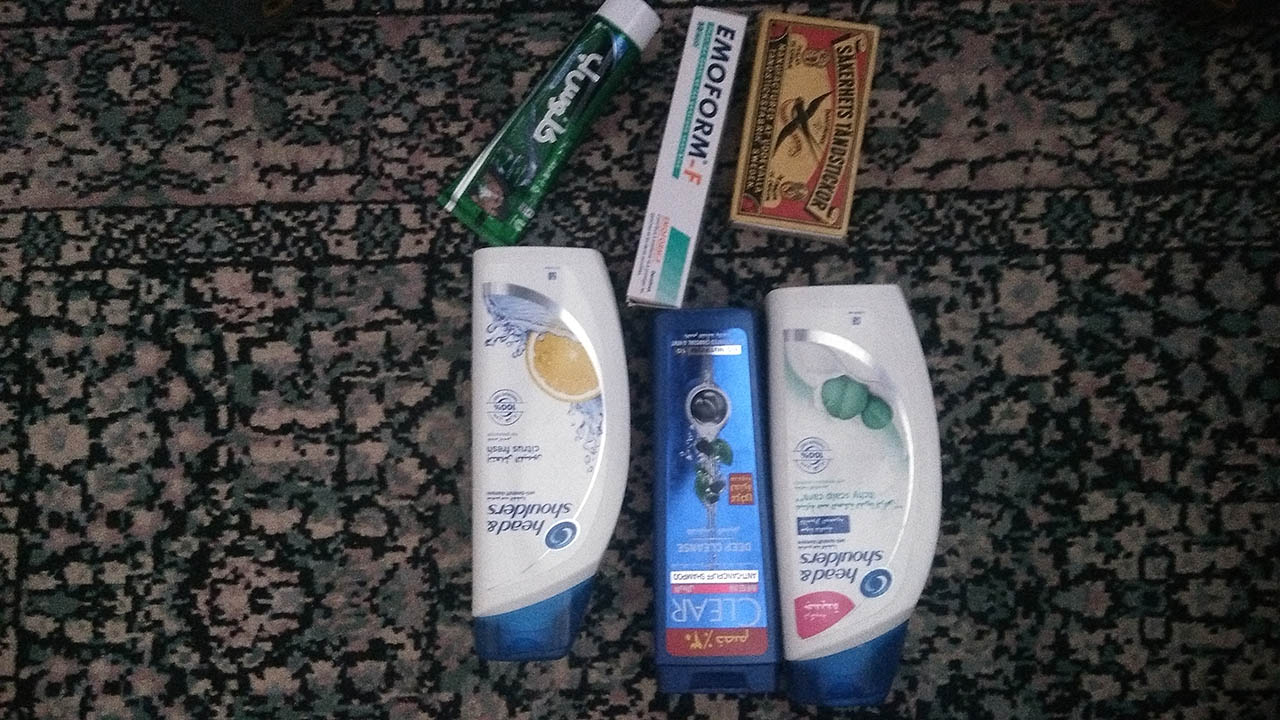Shampoo-Clear 4.7$: (653, 308, 770, 689)
Toothpaste-Closeup 3.04$: (433, 1, 669, 234)
Toothpaste-F 1.5$: (624, 1, 747, 309)
match-sticks .90$: (724, 18, 907, 248)
shampoo-Lemon 3.5$: (472, 249, 615, 671)
shampoo-green 4.5$: (766, 286, 942, 703)
